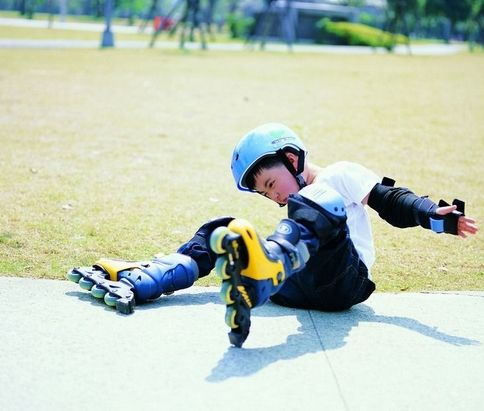down: (53, 119, 484, 355)
